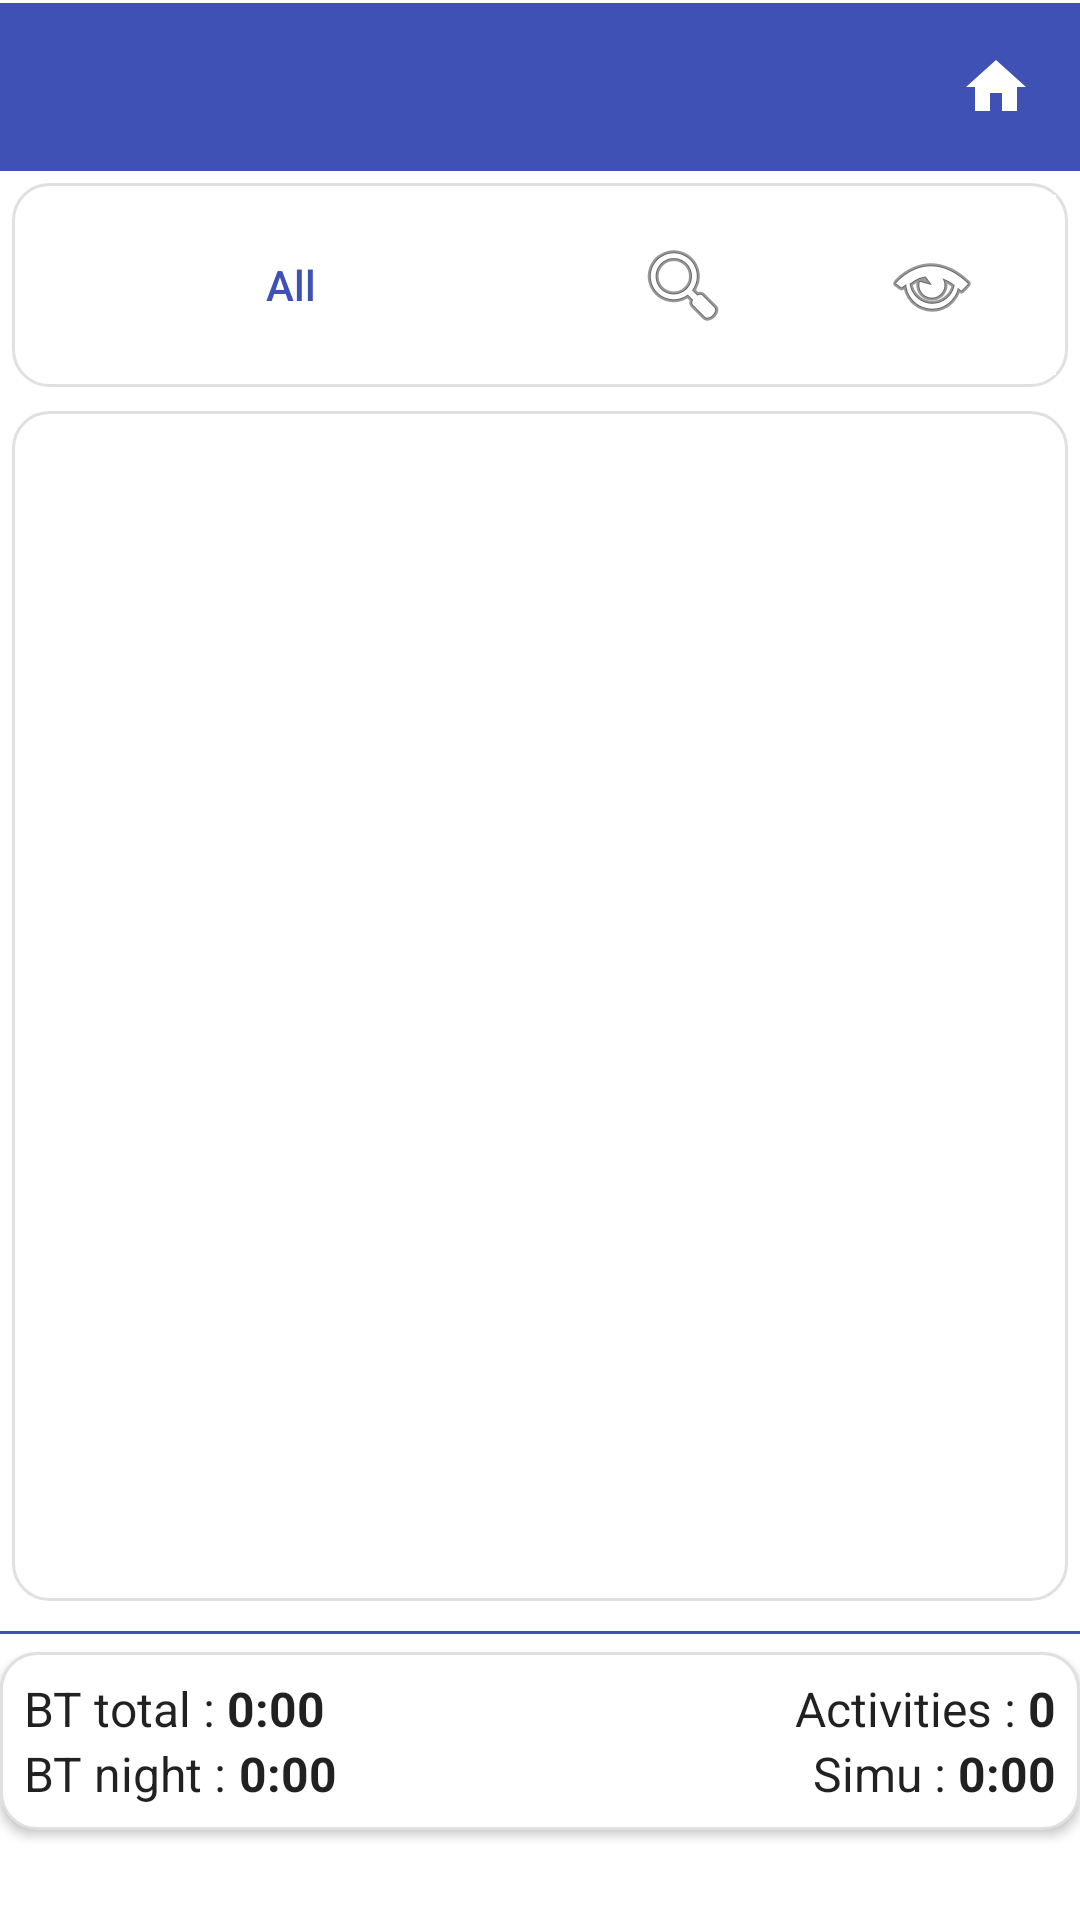

Icons on this 1080*1920 Android screen, each with its box as (x1, y1, x2, y2):
Home: (966, 60, 1026, 111)
Search: (647, 250, 719, 321)
